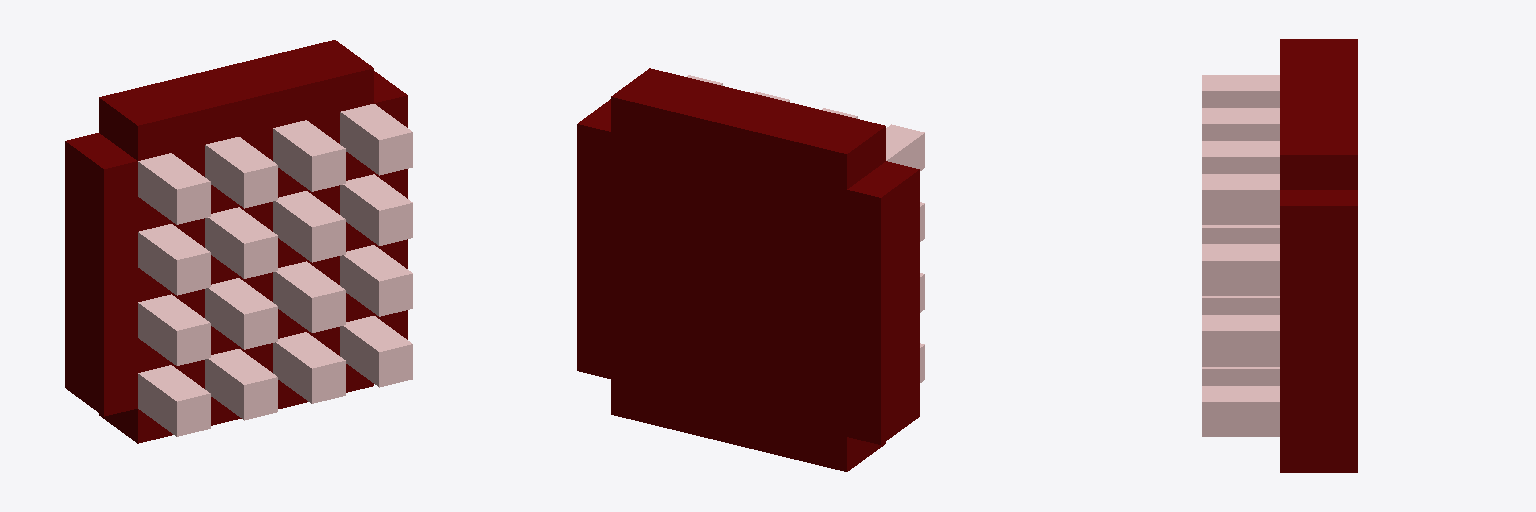
The picture shows the model from 3 angles: view 1: azimuth 30°, elevation 25°; view 2: azimuth 150°, elevation 25°; view 3: azimuth 270°, elevation 25°; orthographic projection.
Parts seen in each view (by area): view 1: object 1; view 2: object 1; view 3: object 1.
Boxes of the visible parts, box(x1,y1,x2,y2) form: object 1: box(65, 40, 412, 443); object 1: box(577, 68, 924, 471); object 1: box(1202, 39, 1357, 472).
Bounding box in the file's own units: 0.9 × 0.9 × 0.4.
Materials: 1 (1 with a texture image).